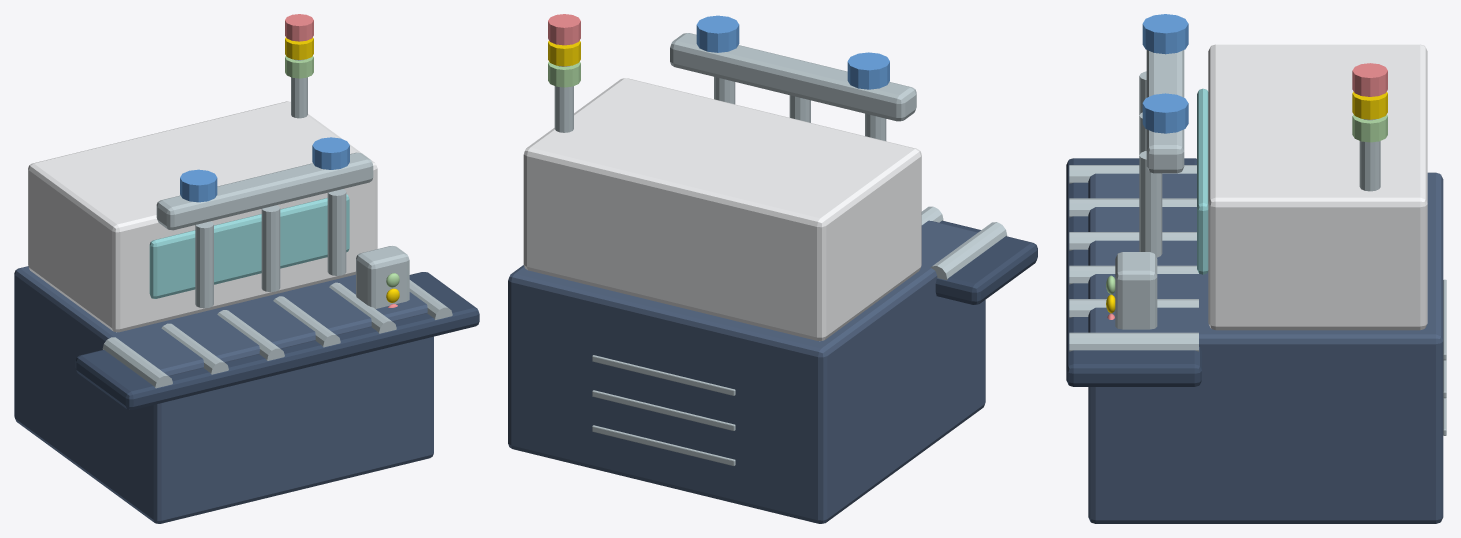
Rendered from machine-fill.glb.
The picture shows the model from 3 angles, left to right: view 1: azimuth 30°, elevation 25°; view 2: azimuth 150°, elevation 25°; view 3: azimuth 270°, elevation 25°; orthographic projection. The views are drawn at different scales.
Visible parts, largest first — view 1: Machine pedestal.002, Upper body.002, Console.002, Belt.010, Safety visor.002, Flow valve, Control button.008, Control button.007, Control button.006; view 2: Machine pedestal.002, Upper body.002, Console.002, Belt.010, Flow valve, Control button.008, Control button.007, Control button.006; view 3: Machine pedestal.002, Upper body.002, Console.002, Belt.010, Flow valve, Safety visor.002, Control button.008, Control button.007, Control button.006.
Boxes of the visible parts, x1,y1,x2,y2 form: Machine pedestal.002: [14, 266, 433, 523]; Upper body.002: [28, 101, 377, 332]; Console.002: [102, 59, 452, 388]; Belt.010: [75, 272, 479, 409]; Safety visor.002: [149, 194, 349, 298]; Flow valve: [180, 137, 349, 202]; Control button.008: [285, 14, 397, 307]; Control button.007: [285, 37, 399, 302]; Control button.006: [285, 56, 399, 287]; Machine pedestal.002: [508, 220, 985, 523]; Upper body.002: [523, 78, 921, 341]; Console.002: [554, 33, 1007, 465]; Belt.010: [935, 221, 1037, 304]; Flow valve: [696, 15, 889, 89]; Control button.008: [548, 14, 580, 45]; Control button.007: [548, 40, 580, 66]; Control button.006: [548, 61, 580, 87]; Machine pedestal.002: [1088, 172, 1443, 523]; Upper body.002: [1208, 44, 1427, 330]; Console.002: [1069, 50, 1446, 435]; Belt.010: [1066, 158, 1201, 386]; Flow valve: [1142, 14, 1188, 133]; Safety visor.002: [1197, 88, 1208, 274]; Control button.008: [1107, 63, 1387, 319]; Control button.007: [1106, 91, 1387, 313]; Control button.006: [1106, 114, 1387, 294].
Size of the model in its own units: 2.4 by 2.34 by 1.82.
